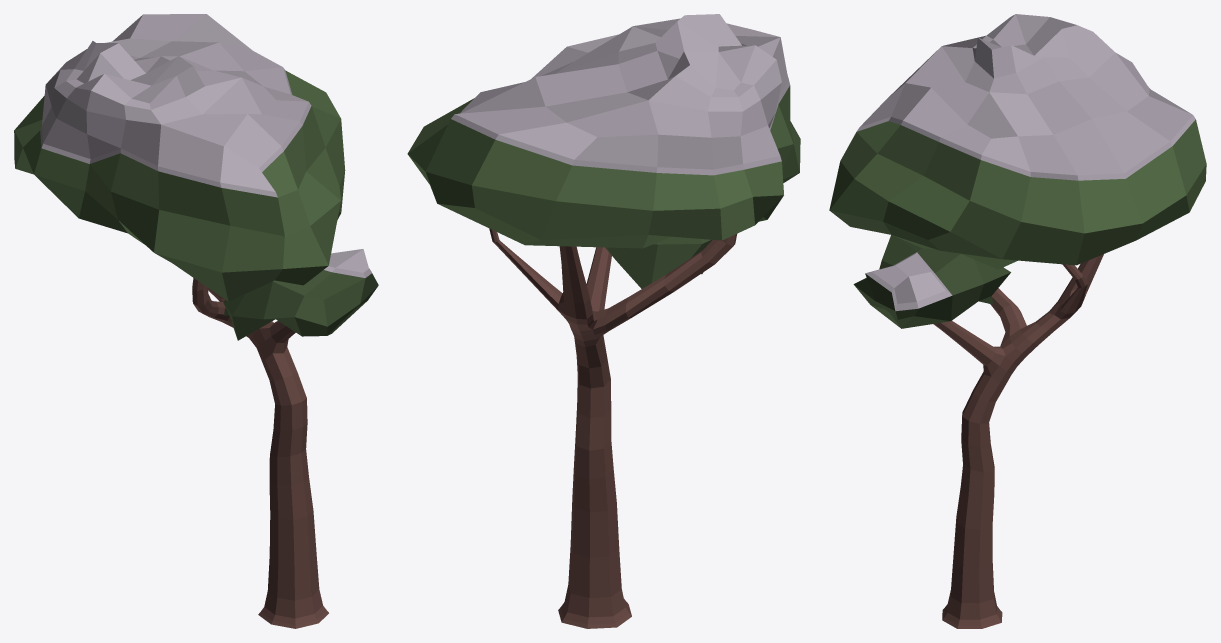
Rendered from CommonTree_Snow_4.gltf.
3 views of the same model, side by side, from view 1: azimuth 30°, elevation 25°; view 2: azimuth 150°, elevation 25°; view 3: azimuth 270°, elevation 25° (orthographic). The views are drawn at different scales.
Visible parts, largest first — view 1: CommonTree_Snow_4; view 2: CommonTree_Snow_4; view 3: CommonTree_Snow_4.
Boxes of the visible parts, x1=… form: CommonTree_Snow_4: x1=14, y1=14, x2=378, y2=628; CommonTree_Snow_4: x1=407, y1=14, x2=800, y2=628; CommonTree_Snow_4: x1=829, y1=14, x2=1206, y2=628.
Size of the model in its own units: 1.58 by 2.8 by 1.8.
